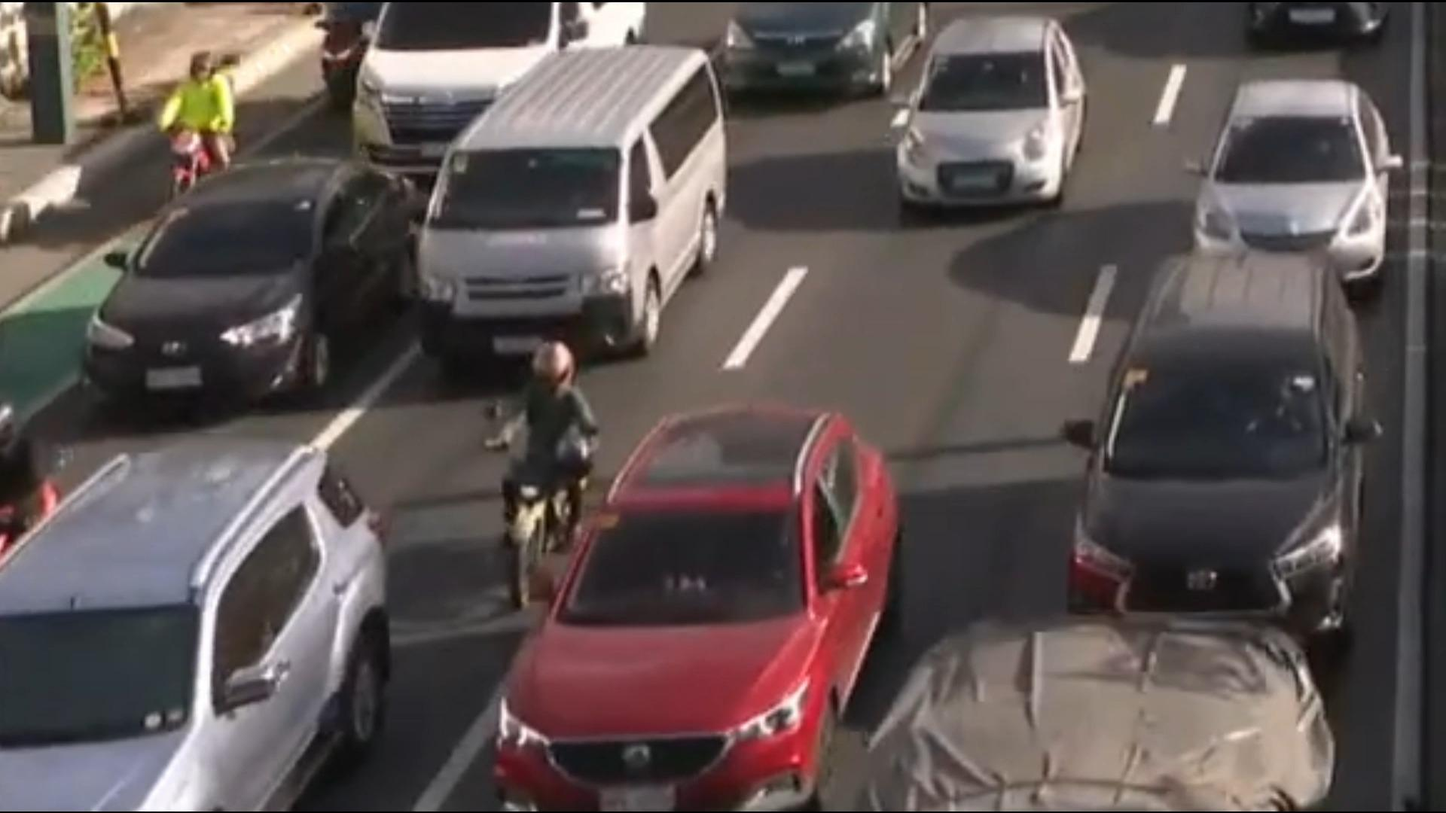Motorcycle: (482, 333, 595, 619), (166, 30, 226, 218)
SUV: (499, 403, 900, 802), (0, 455, 394, 813), (1090, 248, 1361, 646)
Sedan: (96, 158, 414, 410), (1201, 70, 1384, 292), (889, 24, 1077, 215)
Van: (410, 47, 727, 384), (337, 0, 651, 188)
